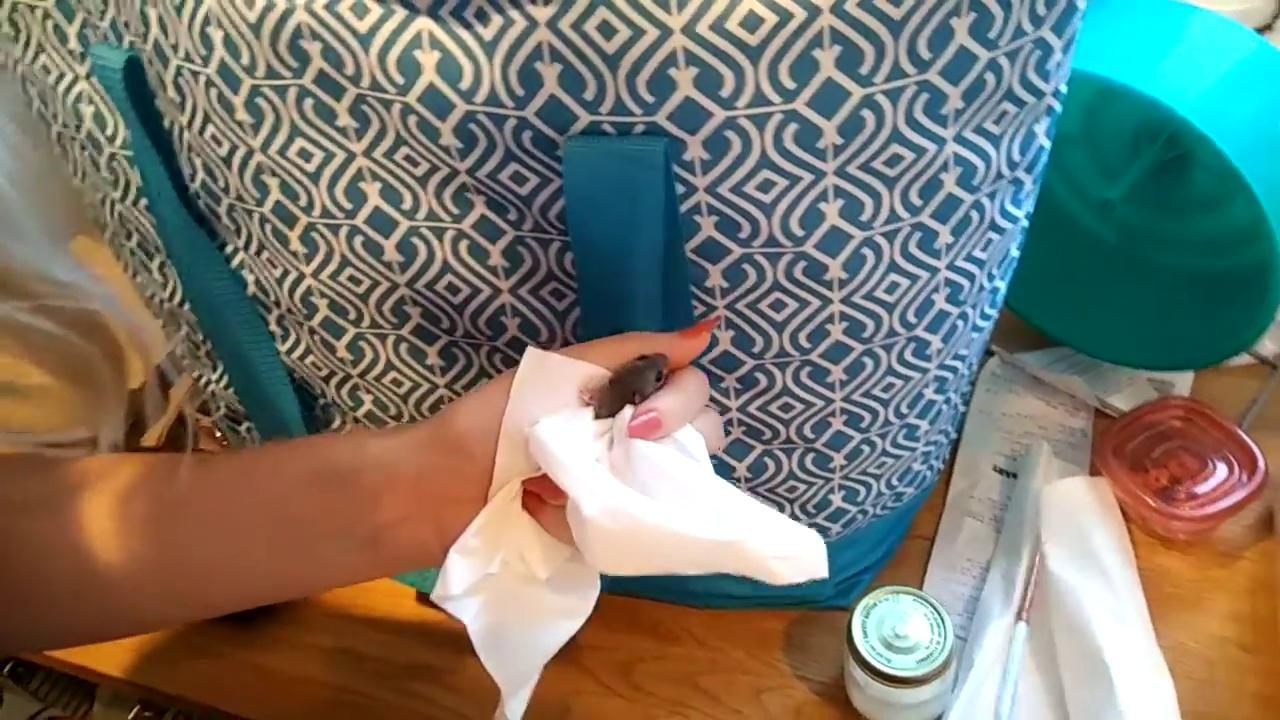rat: (580, 353, 670, 419)
